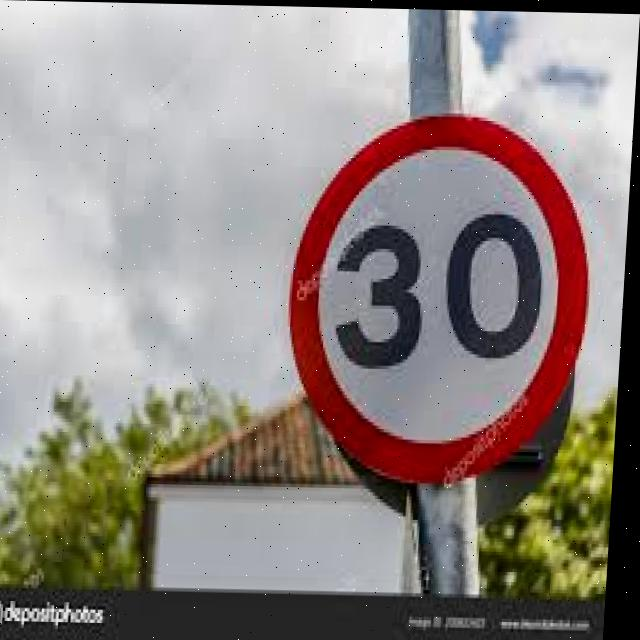Speed limit 30: (280, 103, 602, 495)
